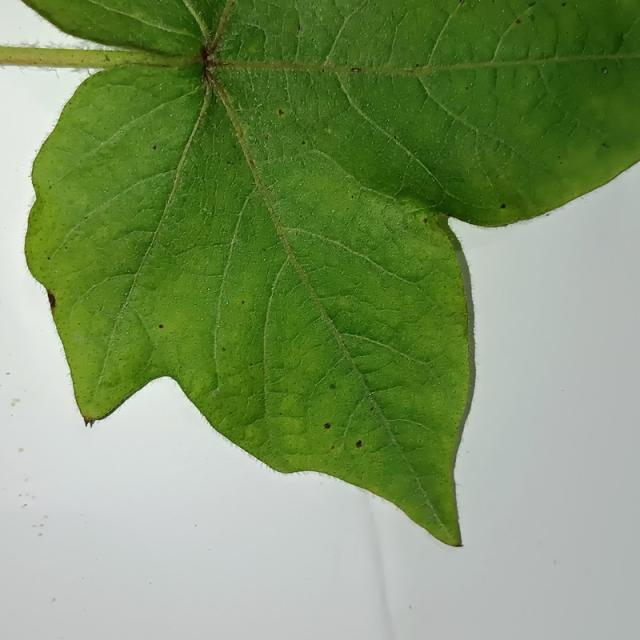Bacterial_Blight: (199, 43, 214, 68), (46, 290, 56, 309), (147, 143, 160, 152), (83, 416, 93, 427), (210, 387, 220, 398), (154, 323, 165, 331), (236, 126, 244, 137), (247, 158, 255, 168), (226, 159, 235, 166), (351, 67, 361, 73), (323, 422, 331, 429), (355, 440, 362, 448), (368, 391, 375, 399), (297, 23, 303, 32), (455, 541, 464, 547), (329, 383, 336, 390), (122, 302, 129, 309), (528, 2, 536, 8), (515, 18, 522, 24), (104, 55, 110, 62), (500, 203, 506, 209), (278, 109, 284, 115), (602, 68, 608, 74), (423, 217, 428, 223), (369, 406, 374, 412), (264, 134, 269, 140), (561, 2, 567, 7), (602, 142, 608, 147), (330, 445, 335, 450), (301, 140, 306, 145), (249, 361, 254, 366), (459, 0, 465, 4), (553, 559, 557, 565), (222, 347, 226, 352), (241, 300, 245, 305), (415, 63, 420, 67), (393, 135, 397, 140), (408, 606, 412, 611), (217, 324, 221, 329), (47, 256, 51, 260), (174, 295, 178, 299), (225, 301, 229, 305), (207, 287, 211, 291), (331, 209, 335, 213), (545, 213, 550, 216), (351, 195, 354, 199)
Cotton: (0, 0, 639, 545)
